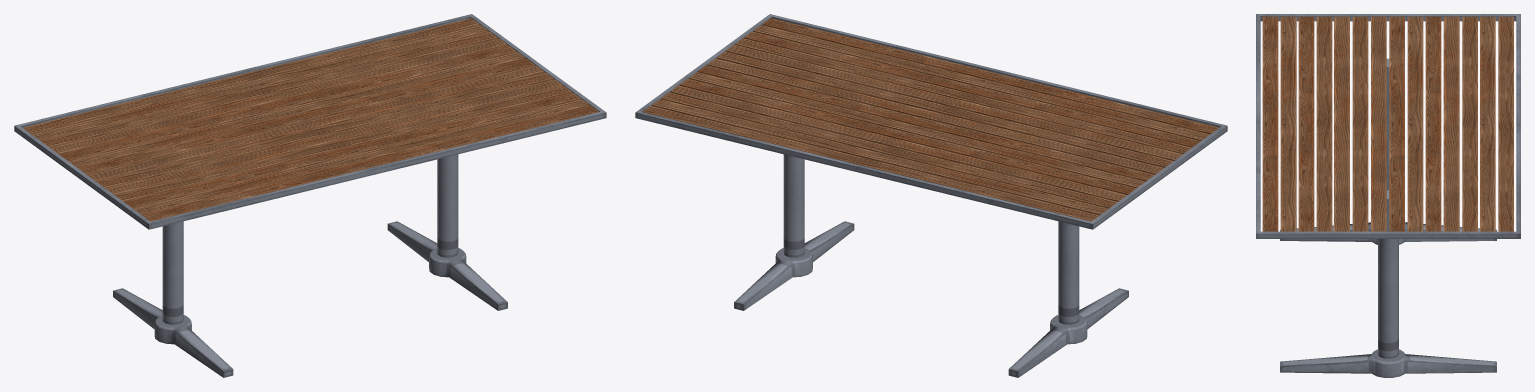
The model's file is MB_Cafe_Table_02.fbx.
3 views of the same model, side by side, from view 1: azimuth 30°, elevation 25°; view 2: azimuth 150°, elevation 25°; view 3: azimuth 270°, elevation 25° (orthographic).
Visible parts, largest first — view 1: MB_Cafe_Table_02_LOD0; view 2: MB_Cafe_Table_02_LOD0; view 3: MB_Cafe_Table_02_LOD0.
Part boxes in pixels (box(x1,y1,x2,y2)): MB_Cafe_Table_02_LOD0: box(14, 14, 606, 377); MB_Cafe_Table_02_LOD0: box(635, 14, 1227, 377); MB_Cafe_Table_02_LOD0: box(1256, 14, 1520, 377).
Size of what is drawn, in the model's own units: 200 by 76.75 by 102.
